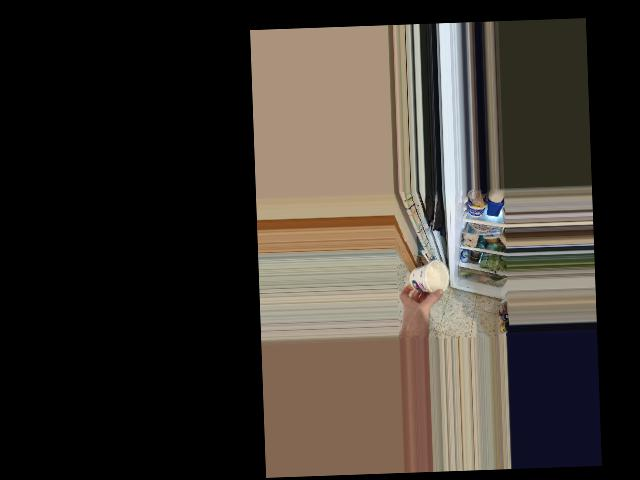cotage: (411, 261, 452, 294)
